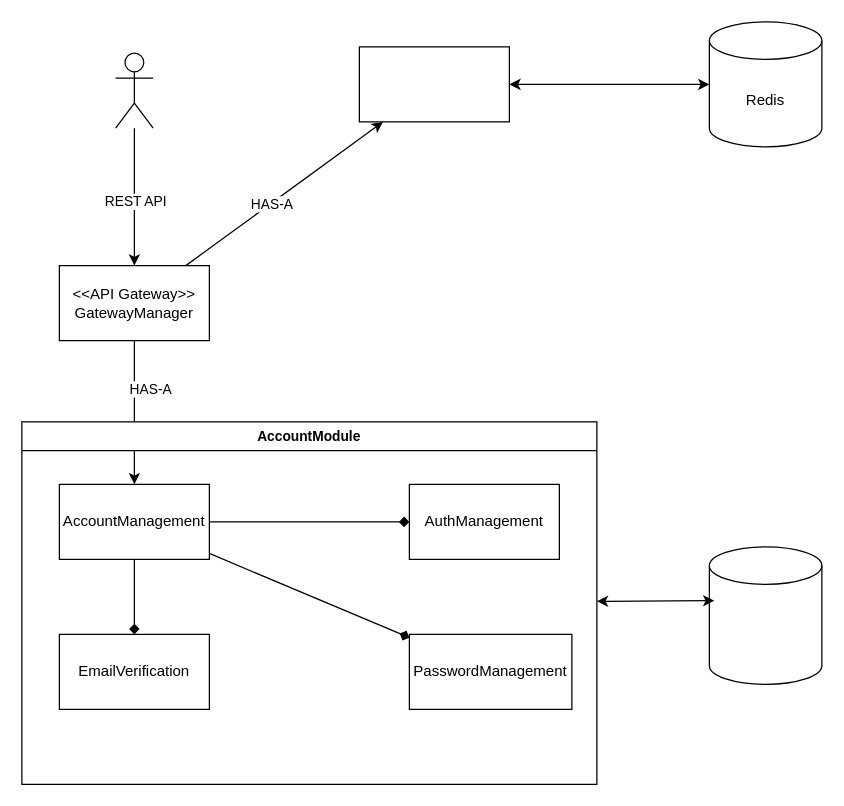
Some shapes in this 844 by 806 pixel diagram are drawn without their labels. The box of each missing label's shape, as (x1, y1, x2, y2) in pixels:
Actor: (114, 52, 153, 128)
PostgreSQL: (708, 546, 822, 684)
StateManagement: (358, 46, 509, 122)
